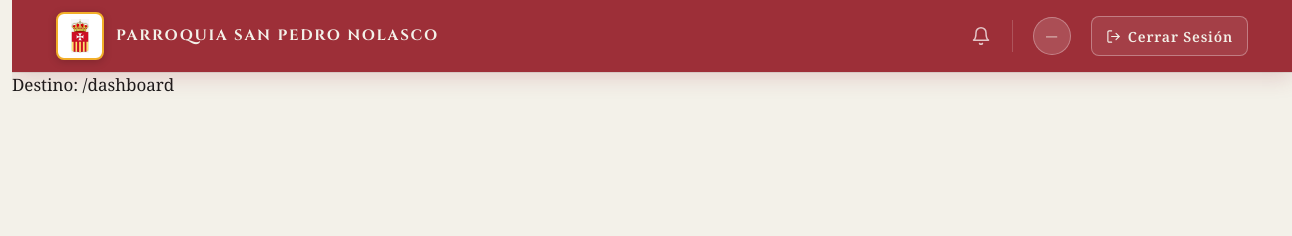
Test case: layout integrado con sesión y notificaciones › tolera el fallo silencioso del polling y cubre usuario ausente
Expected: the text "—" is shown, [1033, 17, 1071, 55]
Click the button titled "Notificaciones".
click(981, 36)  # box [962, 17, 1000, 55]
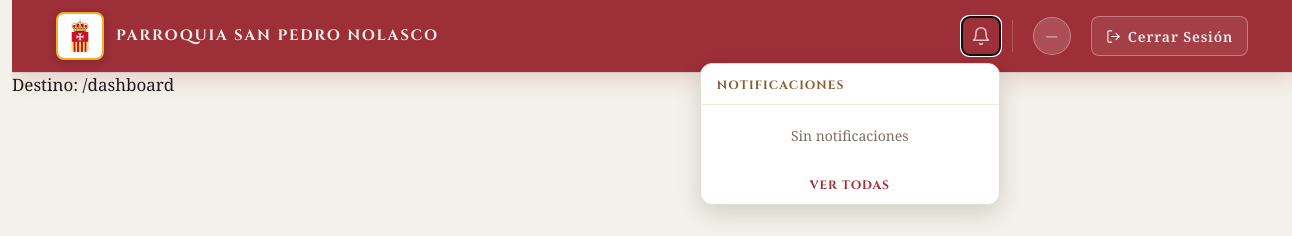
Expected: the text "Sin notificaciones" is shown, [791, 126, 909, 145]
